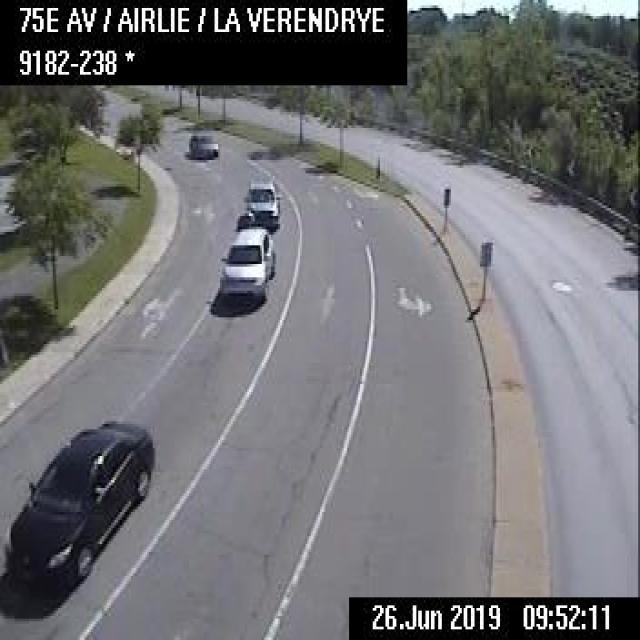vehicle: (0, 415, 156, 597), (218, 208, 276, 301), (240, 178, 282, 227), (184, 125, 218, 160)
